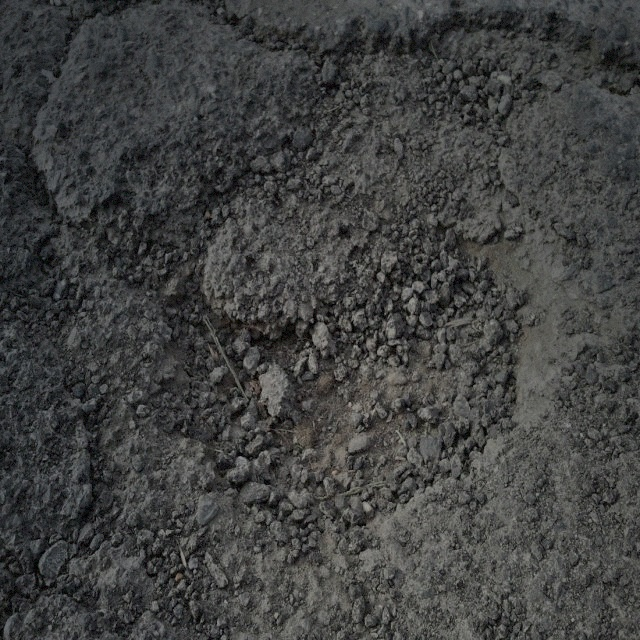pothole: (133, 141, 567, 541)
